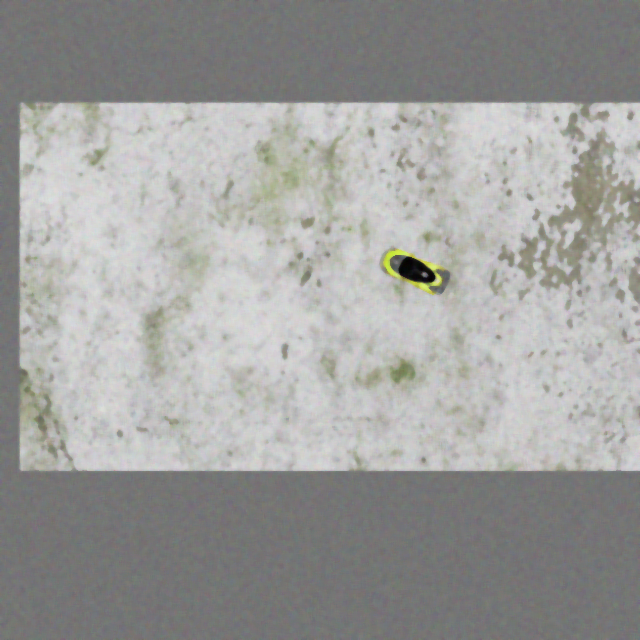car: (378, 242, 454, 299)
